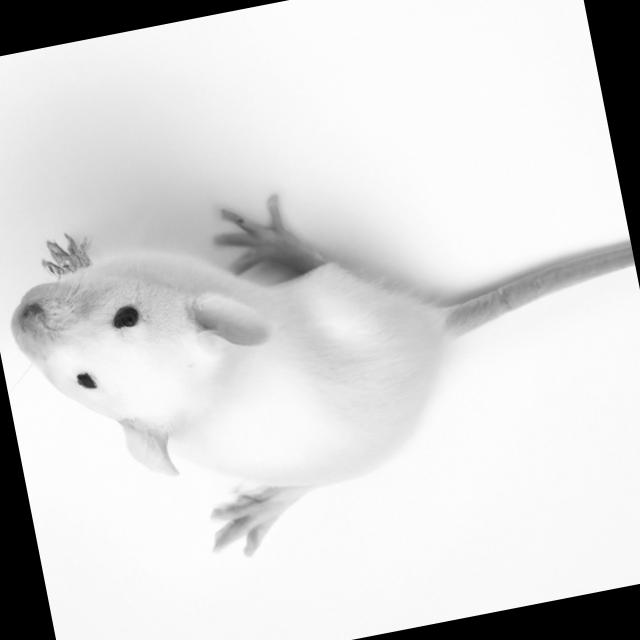rodents: (0, 154, 492, 584)
